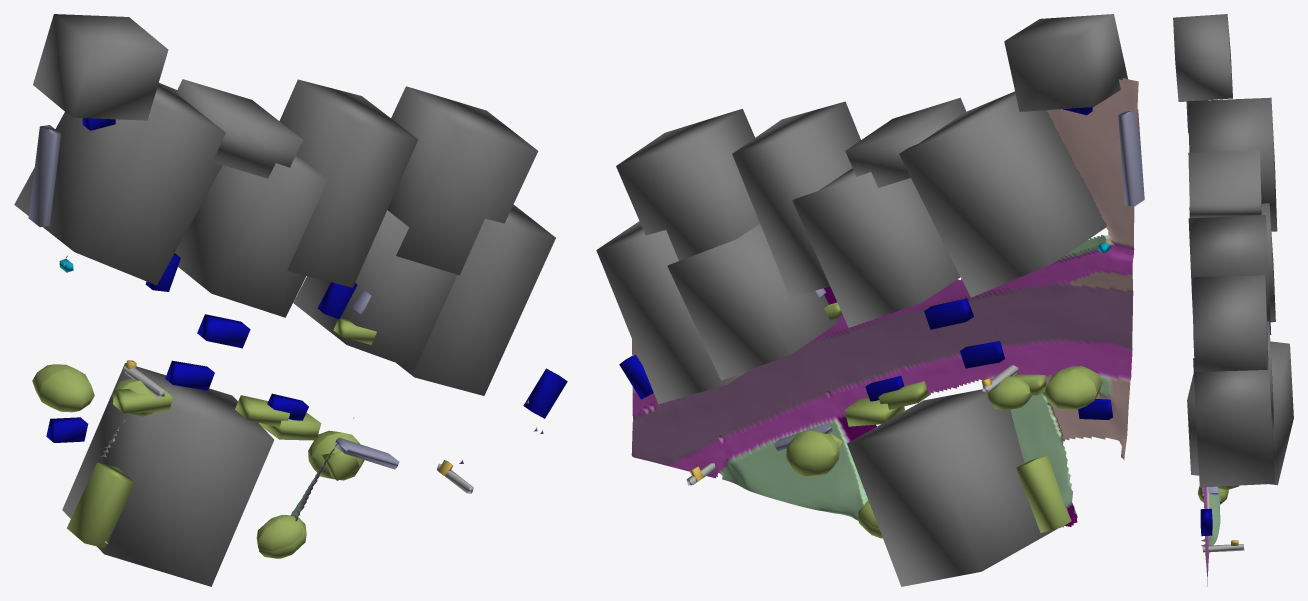
The picture shows the model from 3 angles, left to right: view 1: azimuth 30°, elevation 25°; view 2: azimuth 150°, elevation 25°; view 3: azimuth 270°, elevation 25°; orthographic projection. The views are drawn at different scales.
Bounding box in the file's own units: 65.85 × 69.21 × 18.1.
